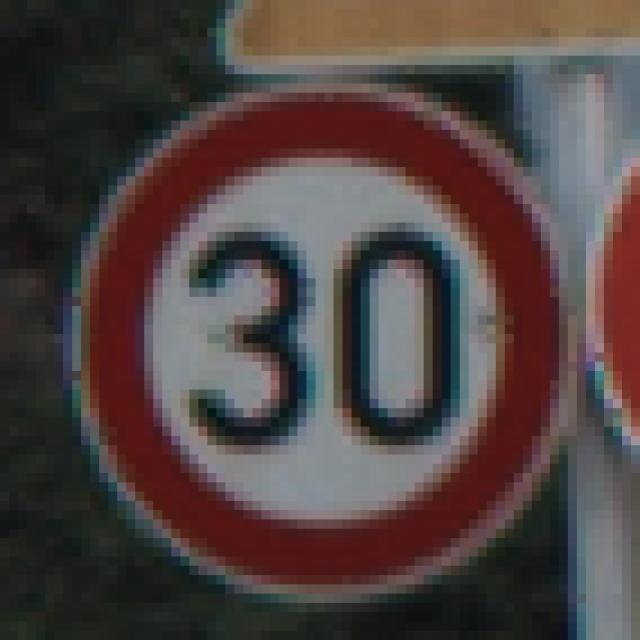Speed Limit -30-: (59, 56, 572, 566)
